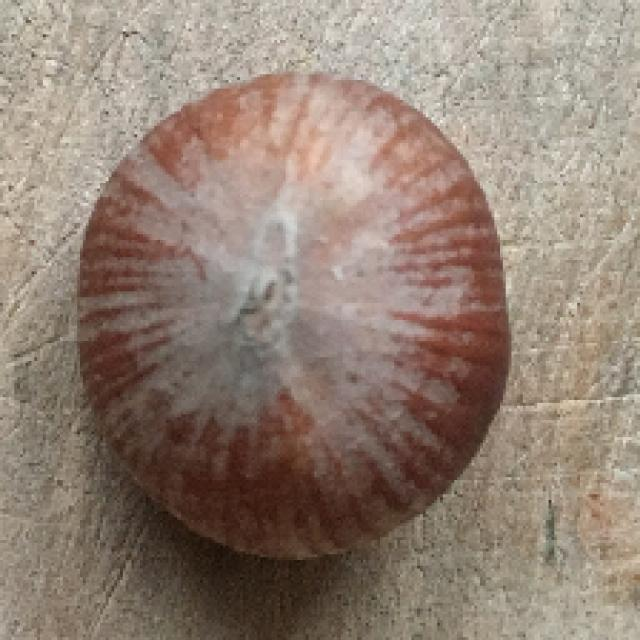qualityHazelnut: (81, 71, 513, 561)
